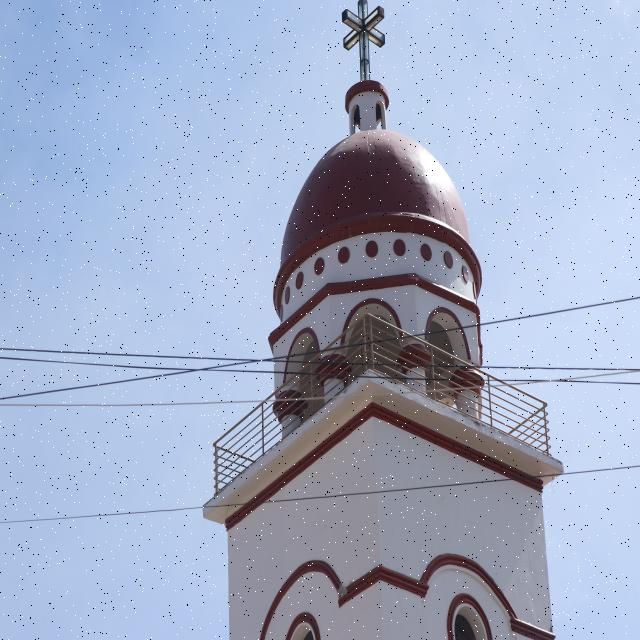CUPULA: (190, 37, 527, 422)
colonial-architecture-: (187, 0, 611, 640)
